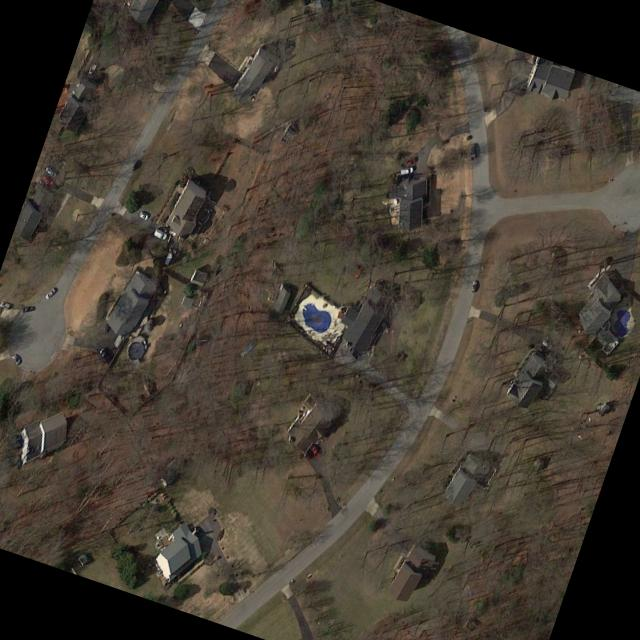small-vehicle: (36, 173, 53, 186), (151, 227, 166, 240), (398, 156, 415, 167), (42, 287, 55, 300), (97, 347, 110, 360), (85, 63, 96, 78), (544, 352, 556, 365), (101, 320, 112, 333), (308, 444, 319, 457), (539, 339, 551, 350), (130, 158, 140, 171), (9, 353, 20, 364), (42, 166, 53, 177), (468, 143, 475, 160), (136, 211, 148, 220), (0, 300, 9, 310), (537, 346, 547, 355), (469, 280, 475, 293), (399, 167, 410, 174), (22, 305, 33, 312)
